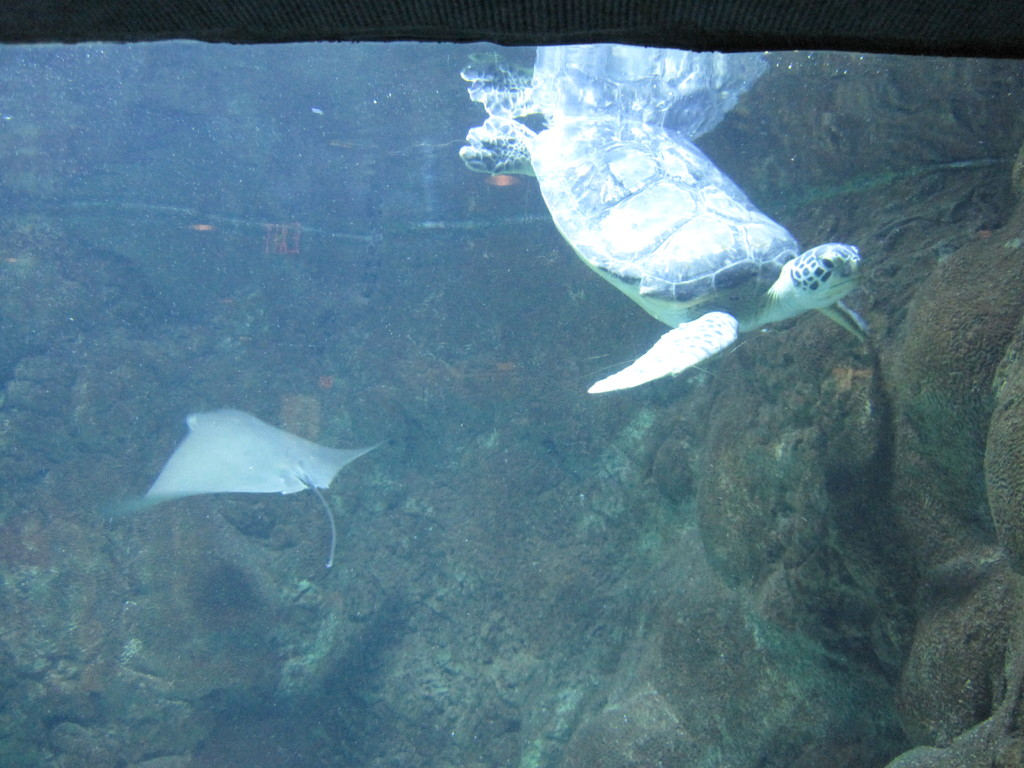Sea turtles: (455, 101, 873, 394)
